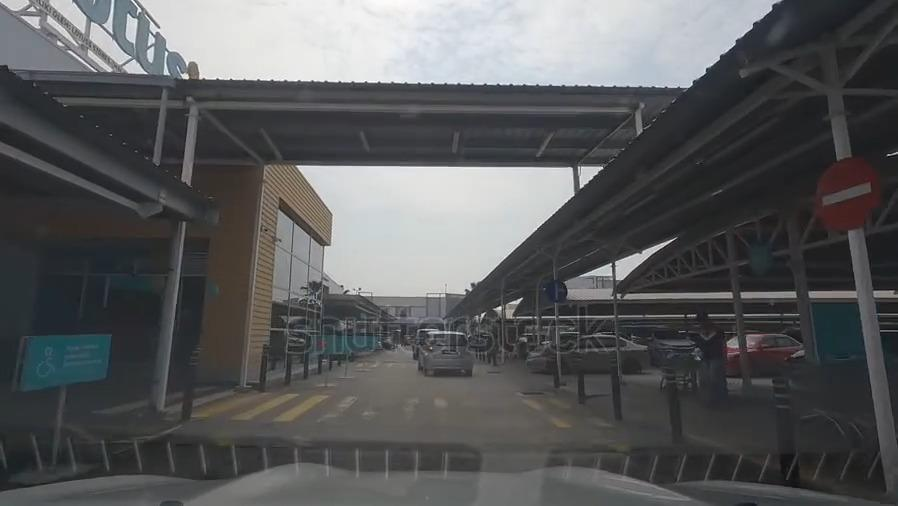car: (525, 335, 647, 371), (728, 329, 799, 373), (636, 327, 695, 364), (424, 331, 471, 376), (413, 328, 430, 355)
manhole: (518, 386, 547, 399), (484, 366, 501, 378)
pedestrian: (188, 396, 623, 419), (340, 362, 492, 369)
person: (691, 313, 729, 407)
speedbump: (132, 442, 682, 457)
